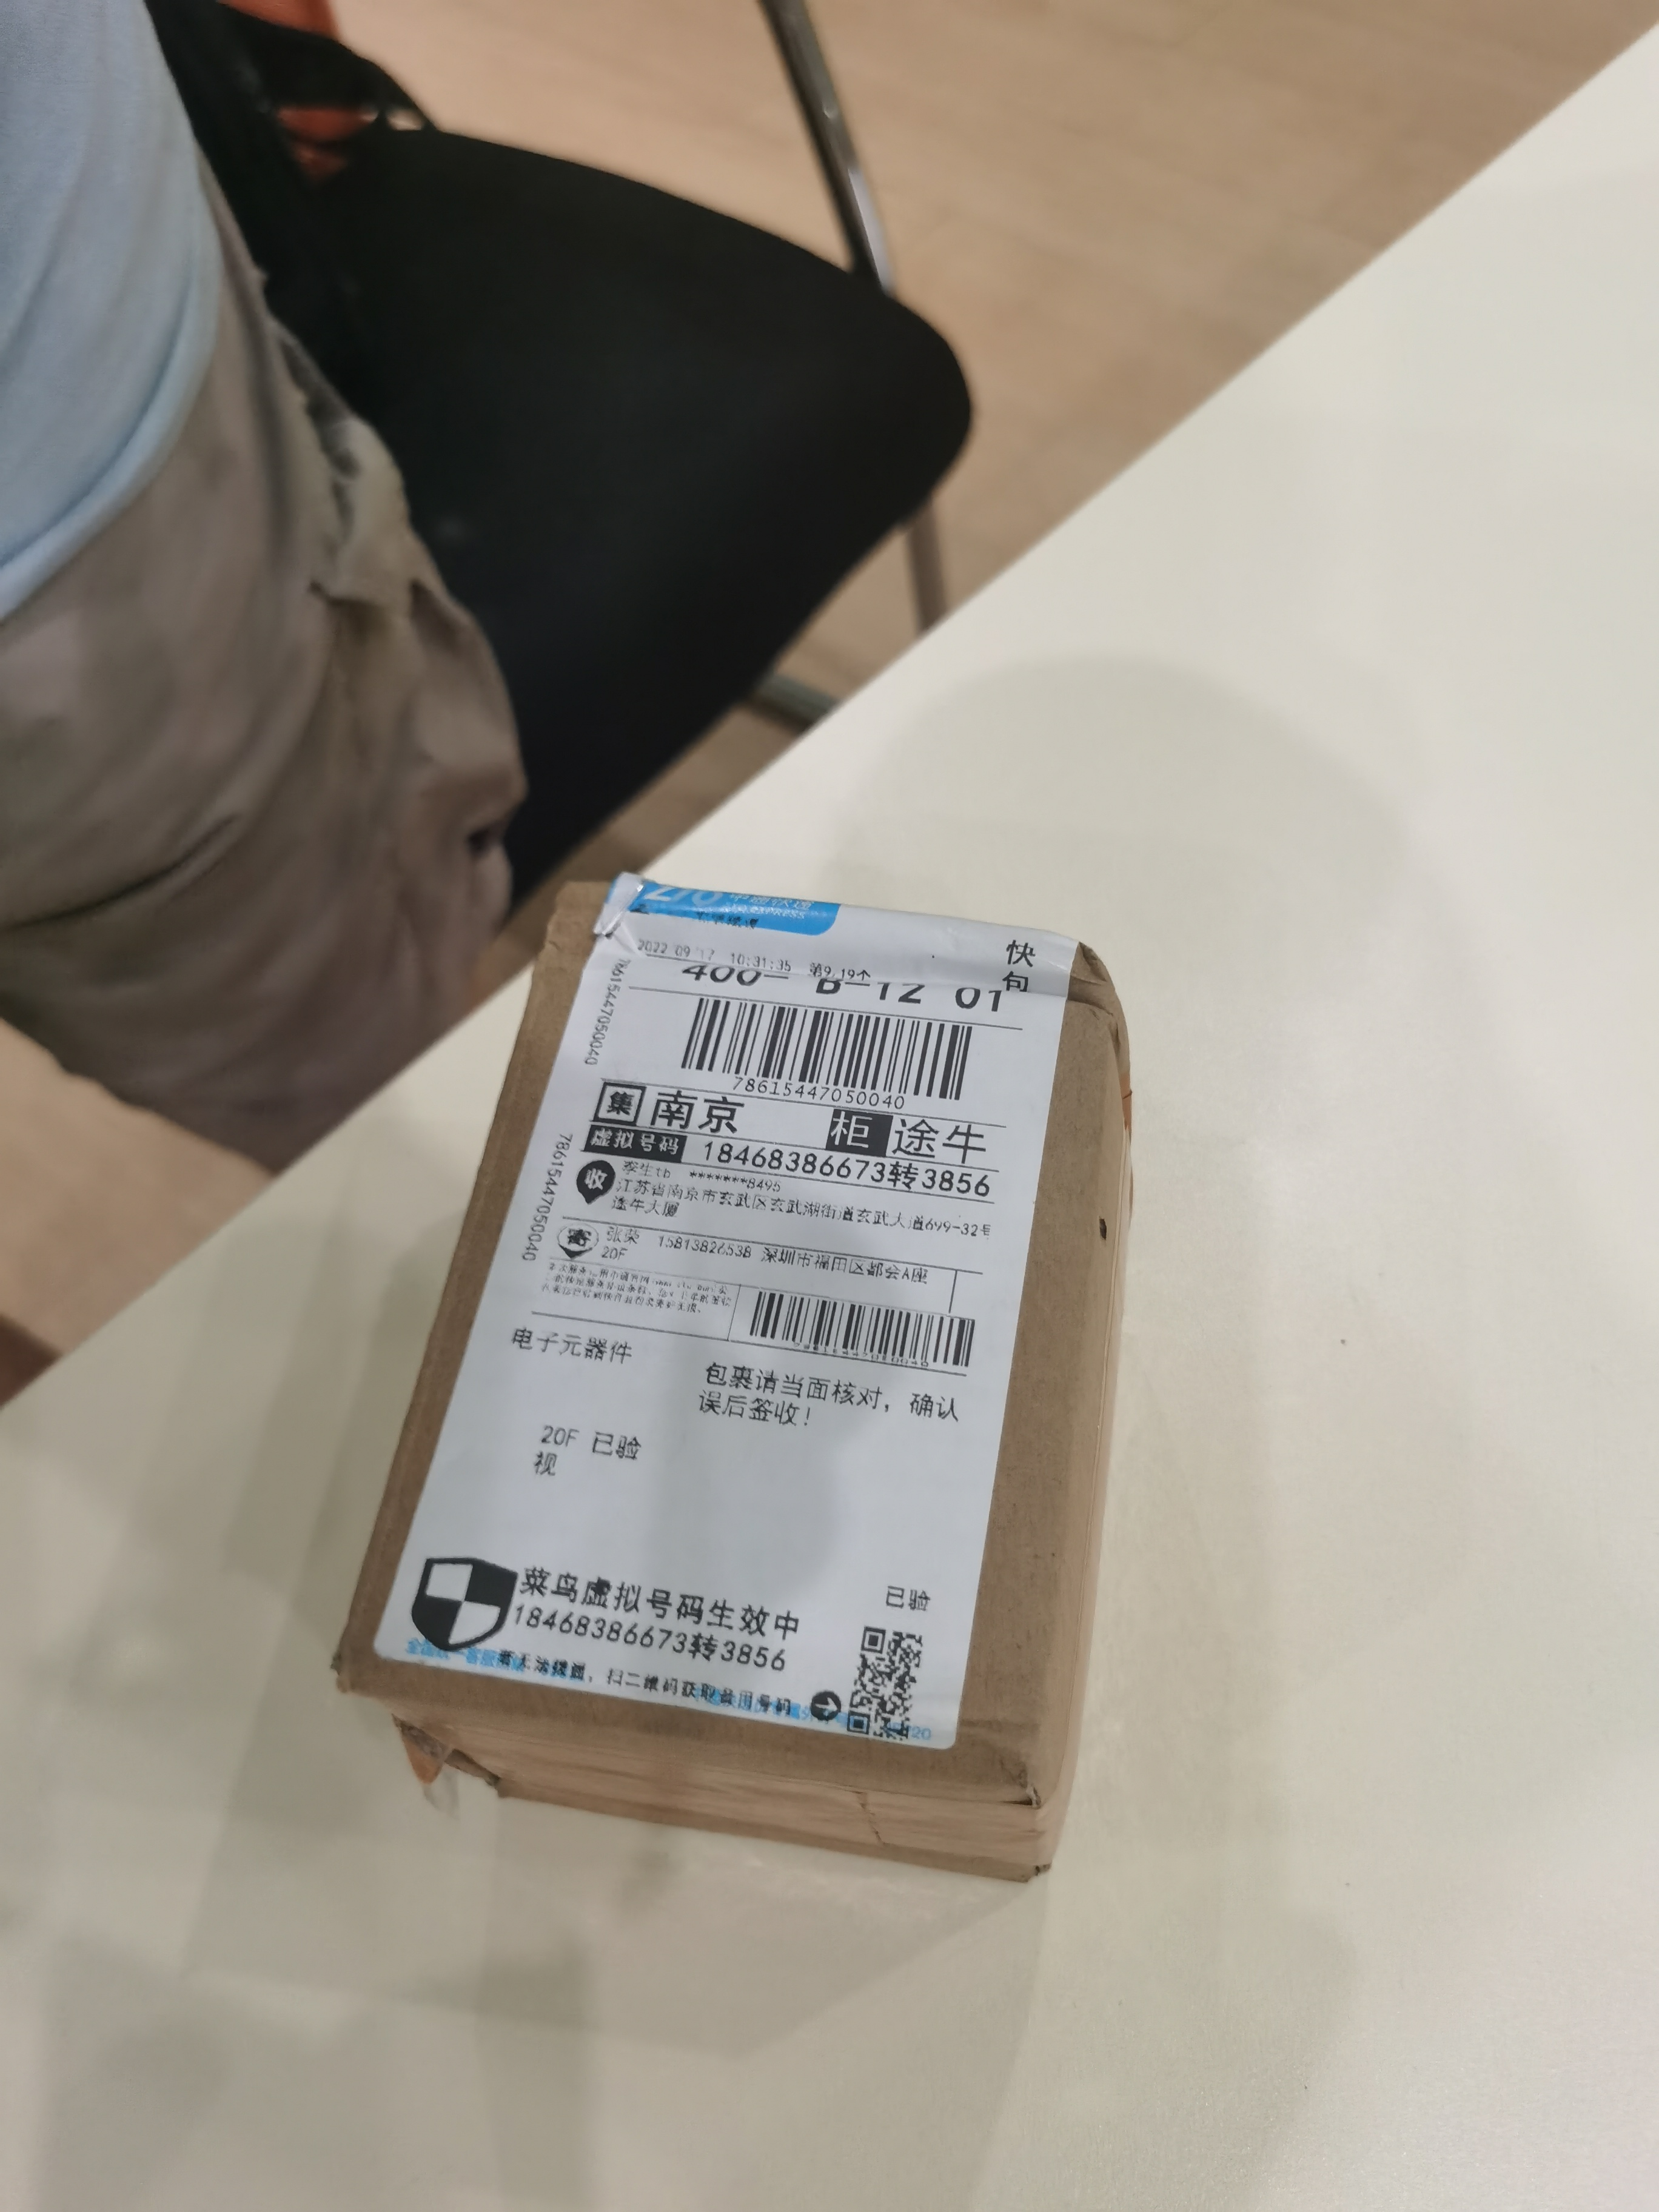box: (397, 873, 1171, 1989)
